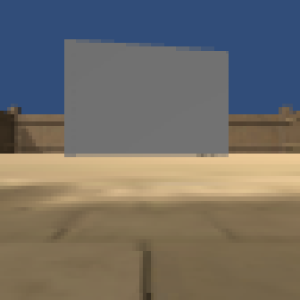wall: (62, 37, 232, 159)
